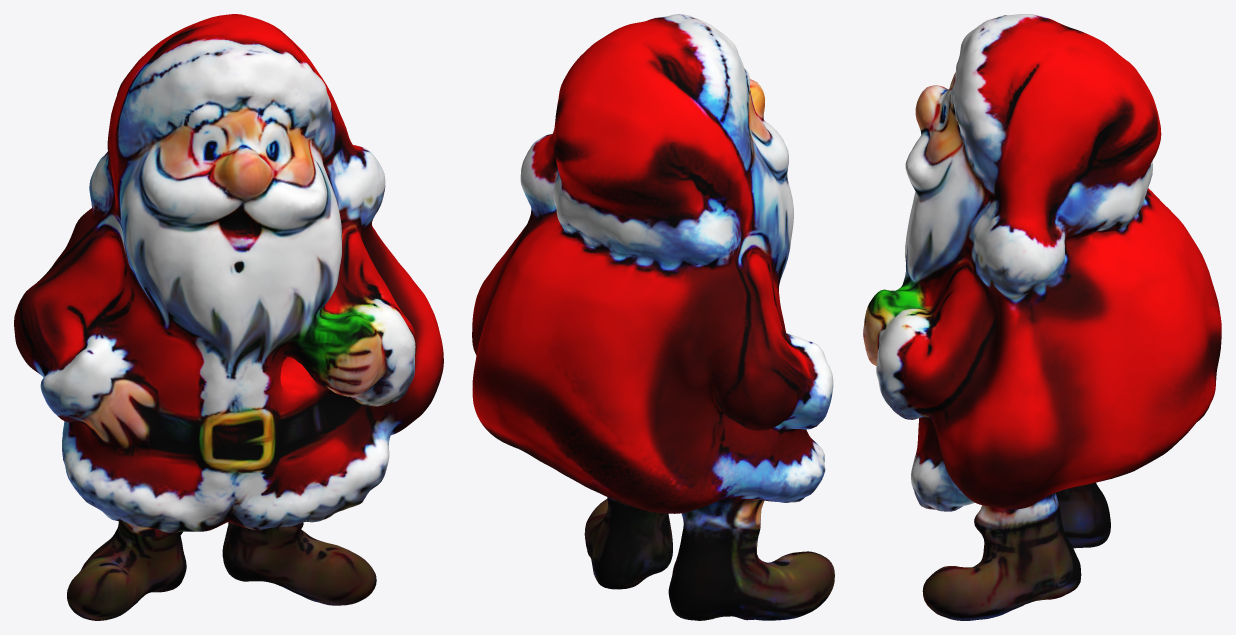
Rendered from santa.glb.
3 renders of one model, left to right at view 1: azimuth 30°, elevation 25°; view 2: azimuth 150°, elevation 25°; view 3: azimuth 270°, elevation 25°, orthographic.
Visible parts, largest first — view 1: Object_2; view 2: Object_2; view 3: Object_2.
Part boxes in pixels (box(x1,y1,x2,y2)): Object_2: box(14, 14, 443, 620); Object_2: box(472, 14, 834, 620); Object_2: box(863, 14, 1221, 620).
Bounding box in the file's own units: 0.9594 × 1.4 × 0.8214.
Materials: 1 (1 with a texture image).
